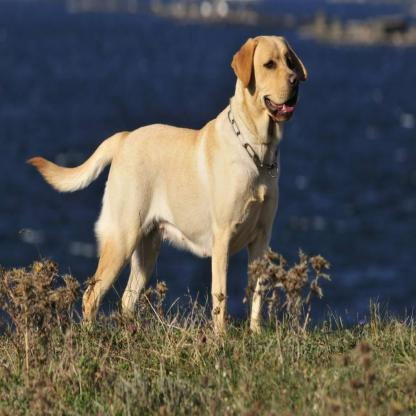Rotveler: (26, 29, 309, 328)
